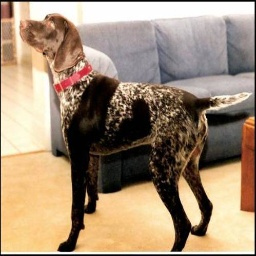dog: (19, 12, 219, 256)
